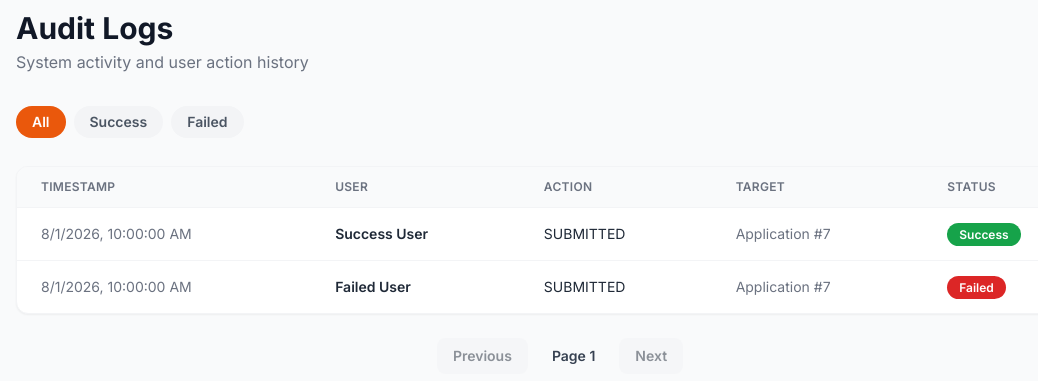
Test: AuditLogs — rendering and filtering › filters logs by status
The width and height of the screenshot is (1038, 381).
Expected: the text "Success User" is shown, [311,208,520,260]
Step 1. Click the button "failed" → (207,122), box [171,106,244,138]
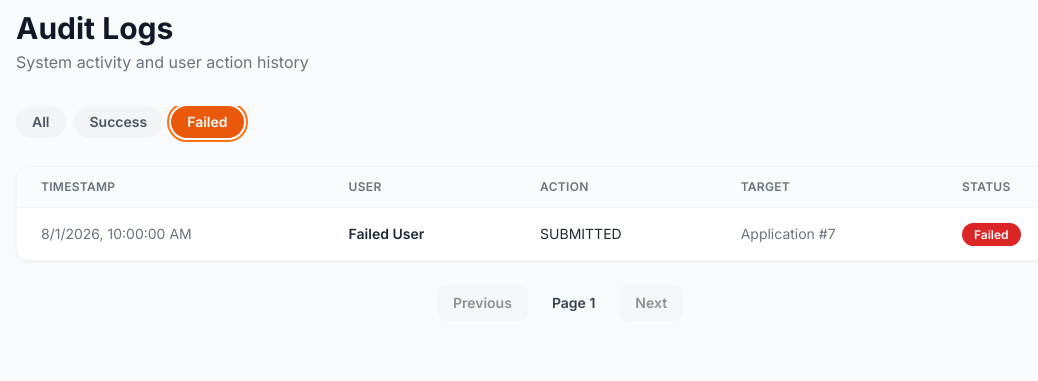
Expected: the text "Failed User" is shown, [325,208,516,260]
Expected: the text "Success User" is gone
